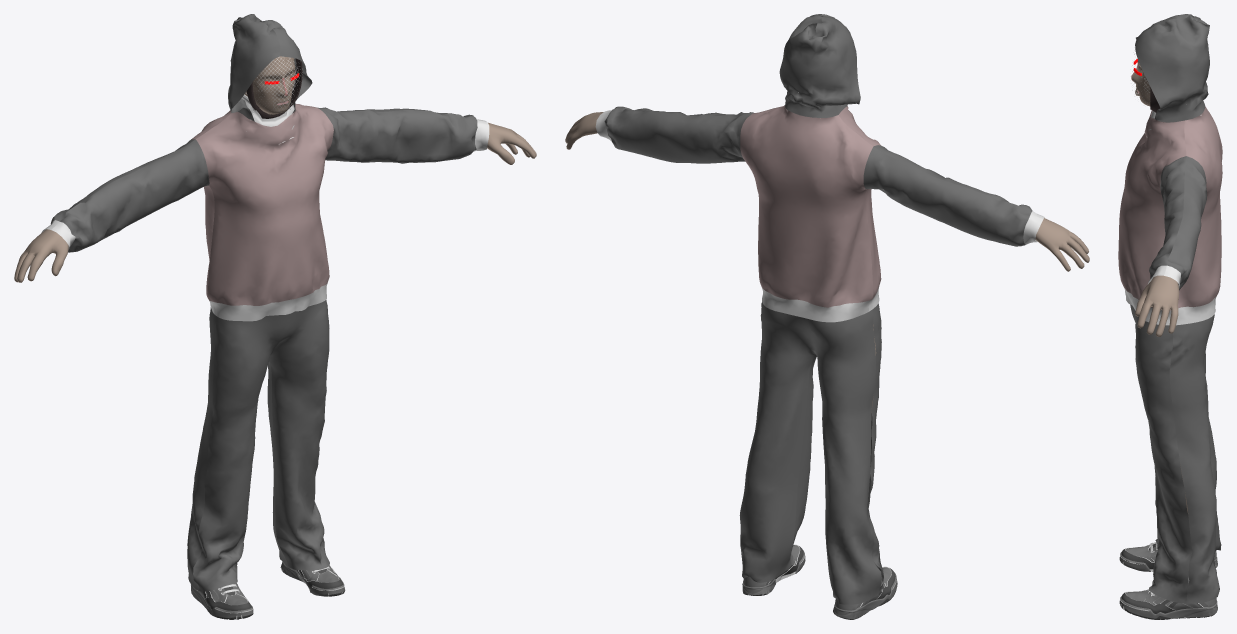
Rendered from led eyes.fbx.
3 renders of one model, left to right at view 1: azimuth 30°, elevation 25°; view 2: azimuth 150°, elevation 25°; view 3: azimuth 270°, elevation 25°, orthographic.
Visible parts, largest first — view 1: cloth_thin:Pattern2D_1892946, cloth_thin:Pattern2D_1652586, cloth_thin:Pattern2D_1679089, cloth_thin:Pattern2D_1679087, mask1:HumanBody:humanBody, cloth_thin:Pattern2D_2432916, cloth_thin:Pattern2D_2432917, cloth_thin:Pattern2D_1652588, polySurface1, polySurface15, cloth_thin:Pattern2D_1652587; view 2: cloth_thin:Pattern2D_2432917, cloth_thin:Pattern2D_1652587, cloth_thin:Pattern2D_1679093, cloth_thin:Pattern2D_2432916, cloth_thin:Pattern2D_1679091, cloth_thin:Pattern2D_1892946, mask1:HumanBody:humanBody, cloth_thin:Pattern2D_1652589, cloth_thin:Pattern2D_1652586, polySurface1, polySurface15, cloth_thin:Pattern2D_1679087; view 3: cloth_thin:Pattern2D_2432917, cloth_thin:Pattern2D_1892946, cloth_thin:Pattern2D_1652586, cloth_thin:Pattern2D_2432916, cloth_thin:Pattern2D_1652587, cloth_thin:Pattern2D_1679091, mask1:HumanBody:humanBody, cloth_thin:Pattern2D_1679089, polySurface15, polySurface1, cloth_thin:Pattern2D_1652589, cloth_thin:Pattern2D_1652588 (+1 smaller).
Boxes of the visible parts, x1,y1,x2,y2 form: cloth_thin:Pattern2D_1892946: (193, 300, 329, 591); cloth_thin:Pattern2D_1652586: (196, 104, 333, 305); cloth_thin:Pattern2D_1679089: (319, 108, 477, 163); cloth_thin:Pattern2D_1679087: (60, 139, 209, 252); mask1:HumanBody:humanBody: (14, 56, 536, 282); cloth_thin:Pattern2D_2432916: (228, 14, 312, 121); cloth_thin:Pattern2D_2432917: (187, 307, 319, 590); cloth_thin:Pattern2D_1652588: (210, 283, 327, 321); polySurface1: (191, 582, 253, 619); polySurface15: (280, 561, 345, 596); cloth_thin:Pattern2D_1652587: (191, 103, 317, 299); cloth_thin:Pattern2D_2432917: (739, 302, 881, 604); cloth_thin:Pattern2D_1652587: (740, 105, 873, 307); cloth_thin:Pattern2D_1679093: (863, 146, 1030, 246); cloth_thin:Pattern2D_2432916: (779, 14, 860, 117); cloth_thin:Pattern2D_1679091: (604, 108, 750, 163); cloth_thin:Pattern2D_1892946: (784, 303, 883, 592); mask1:HumanBody:humanBody: (565, 112, 1089, 412); cloth_thin:Pattern2D_1652589: (761, 287, 871, 322); cloth_thin:Pattern2D_1652586: (751, 106, 881, 298); polySurface1: (833, 566, 897, 619); polySurface15: (742, 544, 805, 595); cloth_thin:Pattern2D_1679087: (874, 145, 1032, 213); cloth_thin:Pattern2D_2432917: (1169, 314, 1221, 603); cloth_thin:Pattern2D_1892946: (1130, 304, 1192, 603); cloth_thin:Pattern2D_1652586: (1118, 110, 1186, 310); cloth_thin:Pattern2D_2432916: (1135, 14, 1209, 122); cloth_thin:Pattern2D_1652587: (1170, 105, 1222, 310); cloth_thin:Pattern2D_1679091: (1167, 156, 1207, 290); mask1:HumanBody:humanBody: (1131, 60, 1188, 570); cloth_thin:Pattern2D_1679089: (1149, 156, 1186, 278); polySurface15: (1119, 576, 1217, 619); polySurface1: (1119, 542, 1217, 571); cloth_thin:Pattern2D_1652589: (1165, 296, 1216, 325); cloth_thin:Pattern2D_1652588: (1124, 288, 1162, 324).
Bounding box in the file's own units: 176 × 187 × 30.9.
